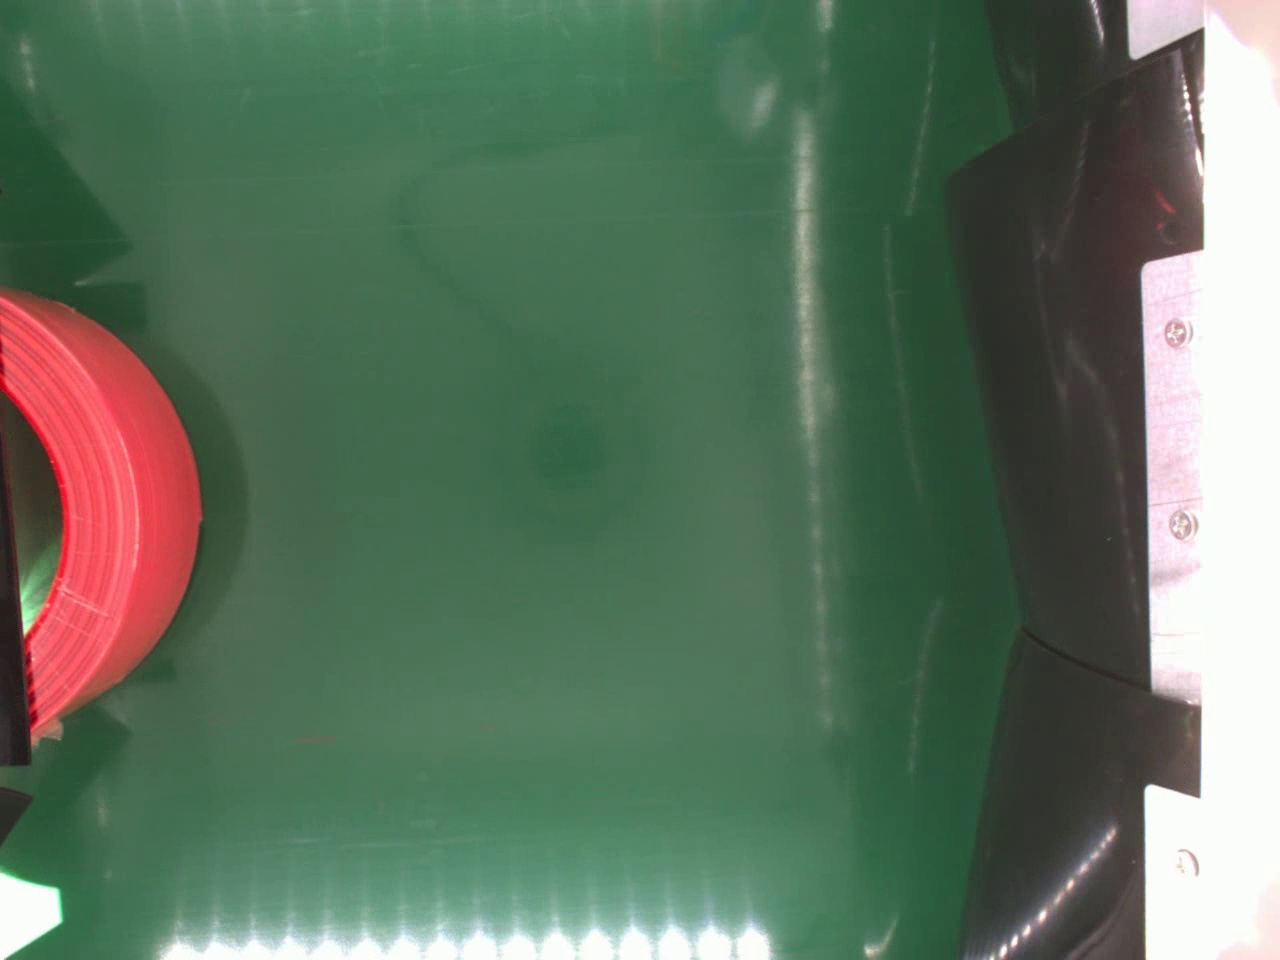red: (0, 280, 207, 731)
